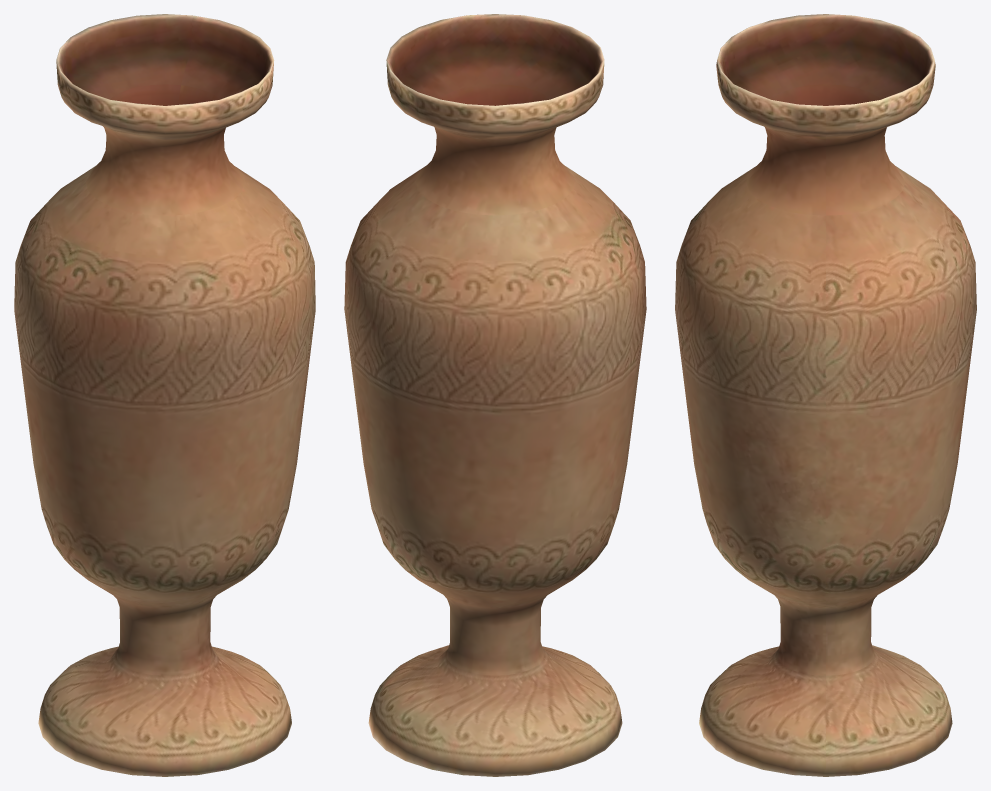
File: brassvase.glb
3 views of the same model, side by side, from view 1: azimuth 30°, elevation 25°; view 2: azimuth 150°, elevation 25°; view 3: azimuth 270°, elevation 25° (orthographic).
Parts seen in each view (by area): view 1: brass_vase_03; view 2: brass_vase_03; view 3: brass_vase_03.
Boxes of the visible parts, x1,y1,x2,y2 form: brass_vase_03: (14,14,315,776); brass_vase_03: (344,14,646,776); brass_vase_03: (675,14,976,776).
Size of the model in its own units: 0.0825 by 0.2001 by 0.0825.
1 material, 1 textured.
